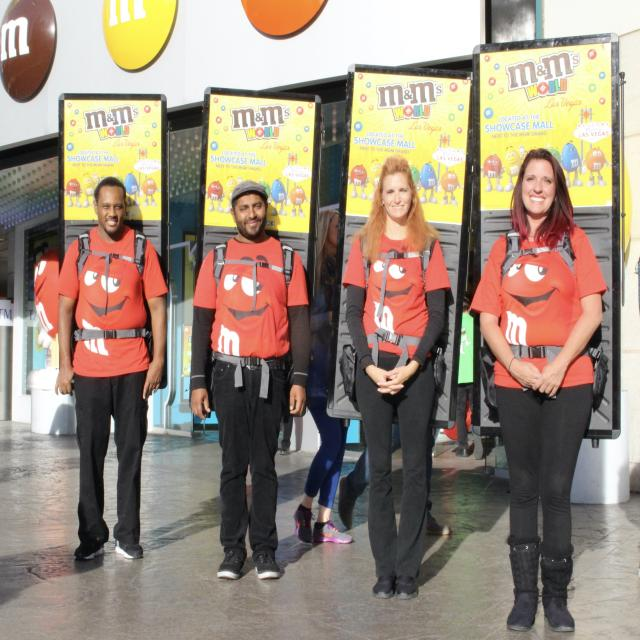body: (466, 146, 609, 634), (338, 155, 456, 606), (186, 178, 312, 582), (52, 174, 170, 564), (333, 208, 455, 538), (231, 382, 487, 482), (290, 207, 355, 547), (455, 295, 484, 460)
